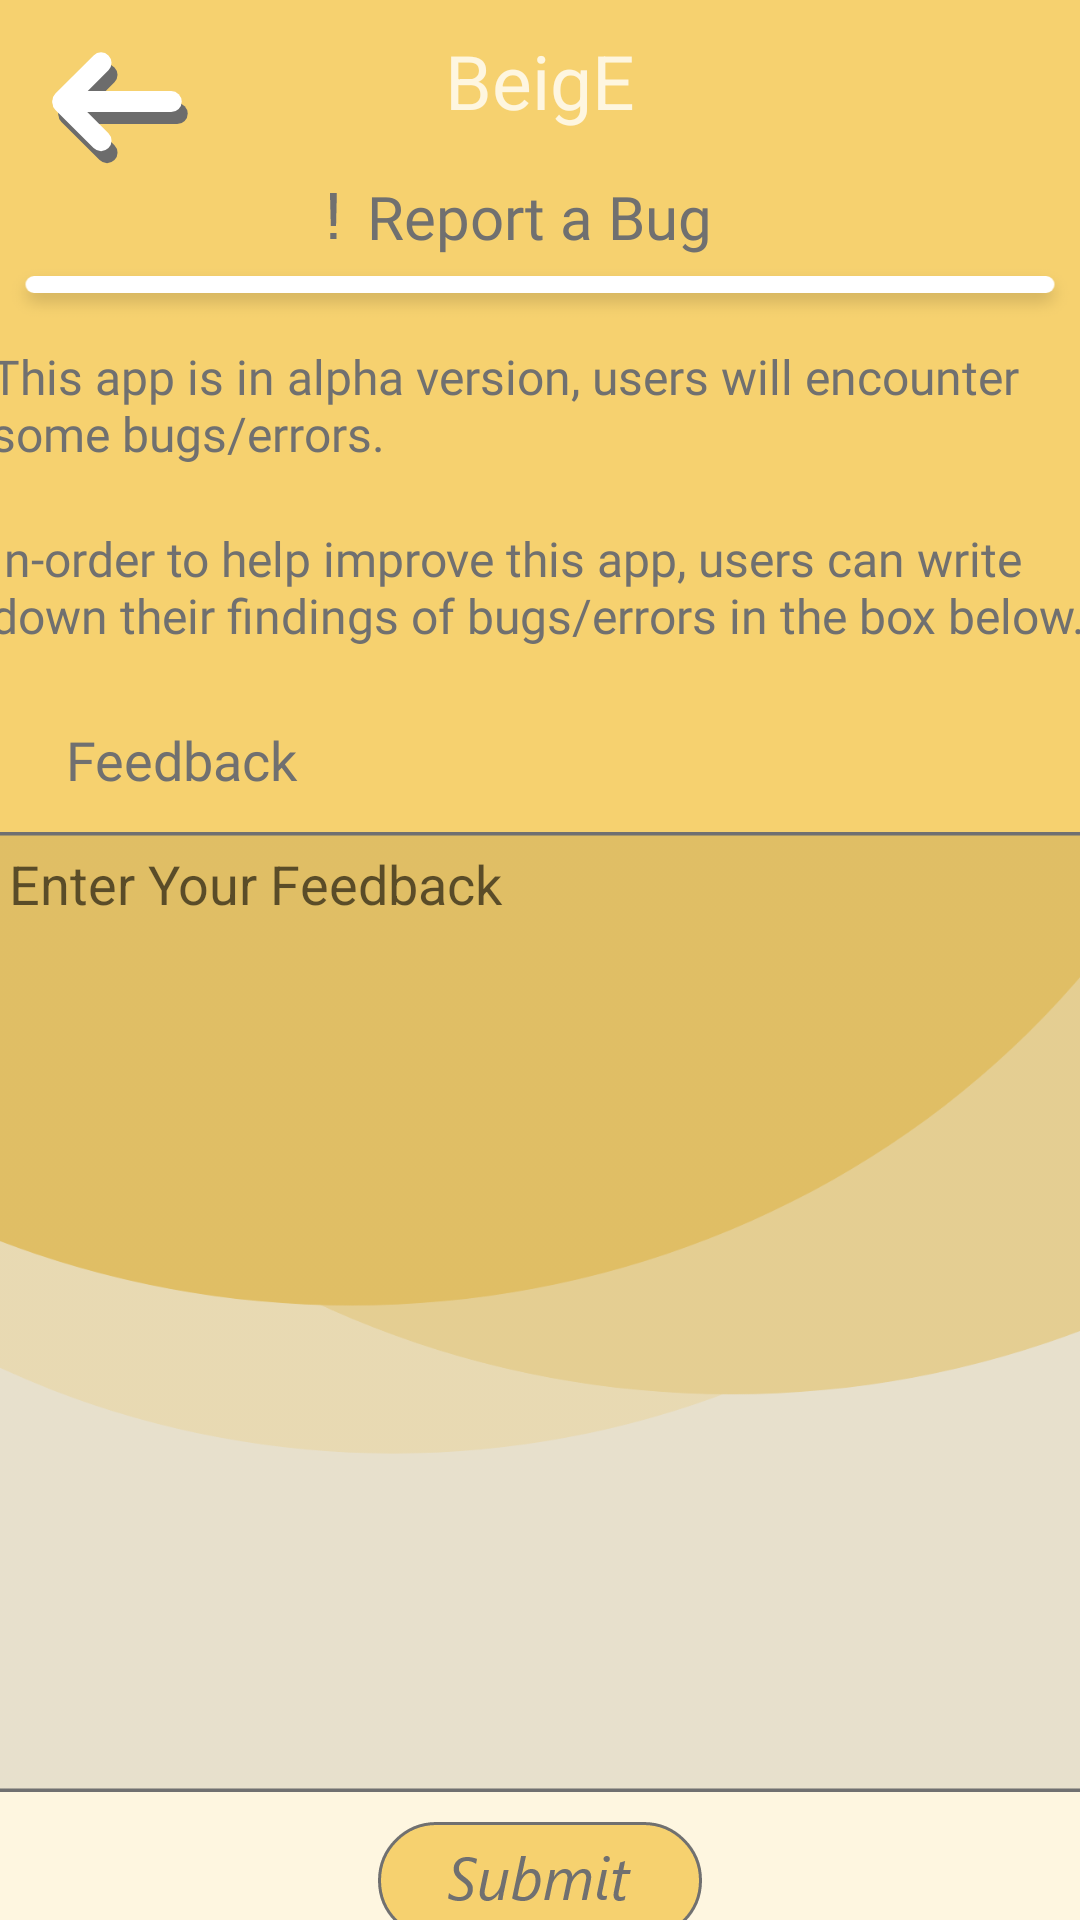

Where icons sit on this 1080×1920 app screen, as (x1, y1, x2, y2):
back: (52, 52, 188, 163)
